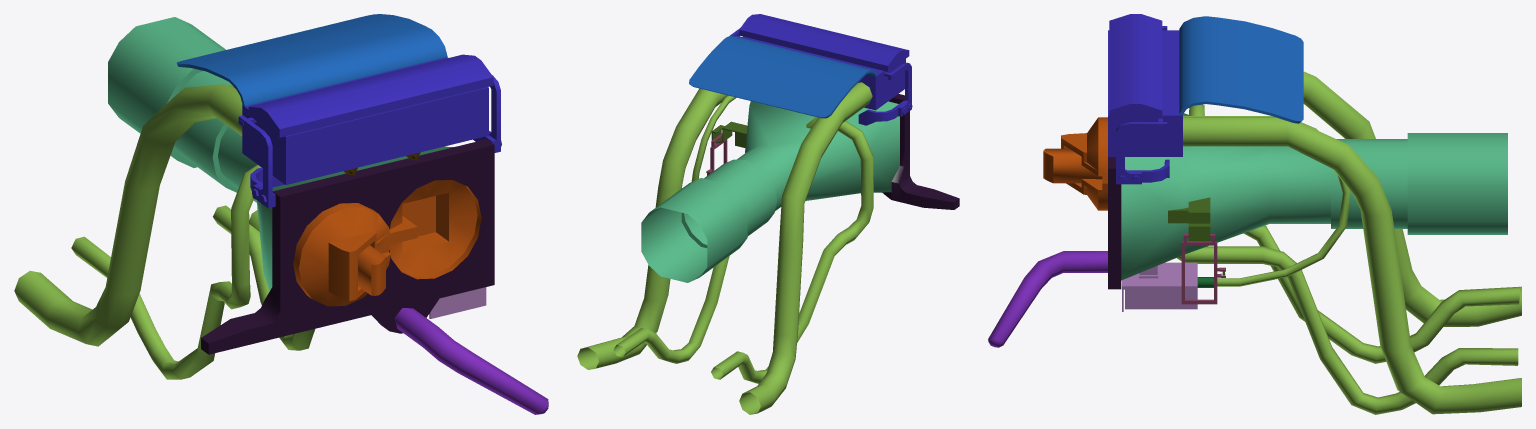
File: Schaku_closed.fbx
3 views of the same model, side by side, from view 1: azimuth 30°, elevation 25°; view 2: azimuth 150°, elevation 25°; view 3: azimuth 270°, elevation 25° (orthographic). The views are drawn at different scales.
Parts seen in each view (by area): view 1: mk_Schaku_Typ10_gekoppelt_0; view 2: mk_Schaku_Typ10_gekoppelt_0; view 3: mk_Schaku_Typ10_gekoppelt_0.
Part boxes in pixels (<box>): mk_Schaku_Typ10_gekoppelt_0: <box>14,14,548,414</box>; mk_Schaku_Typ10_gekoppelt_0: <box>577,14,959,414</box>; mk_Schaku_Typ10_gekoppelt_0: <box>988,14,1521,414</box>.
Size of the model in its own units: 69.4 by 81.64 by 120.
